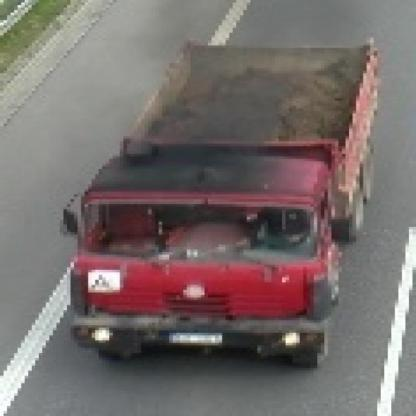truck: (68, 36, 389, 372)
